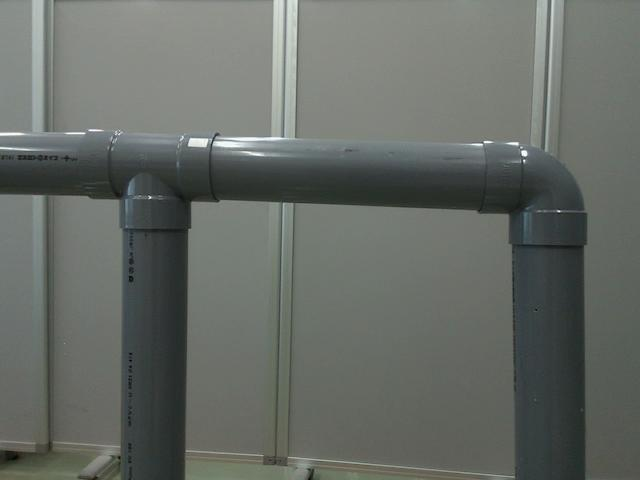bent: (478, 142, 587, 250)
junction: (72, 126, 222, 229)
